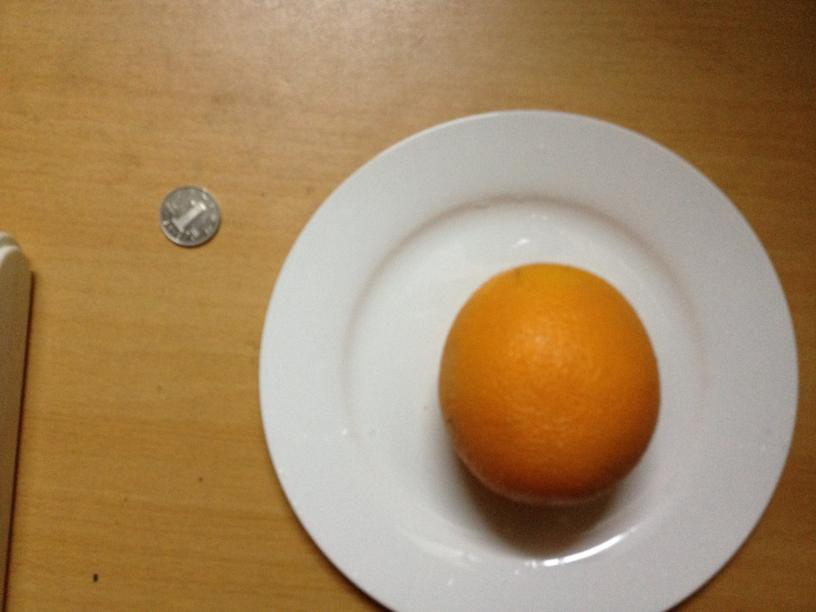coin: (156, 184, 220, 246)
orange: (438, 257, 660, 507)
